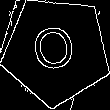O_S: (31, 21, 82, 81)
